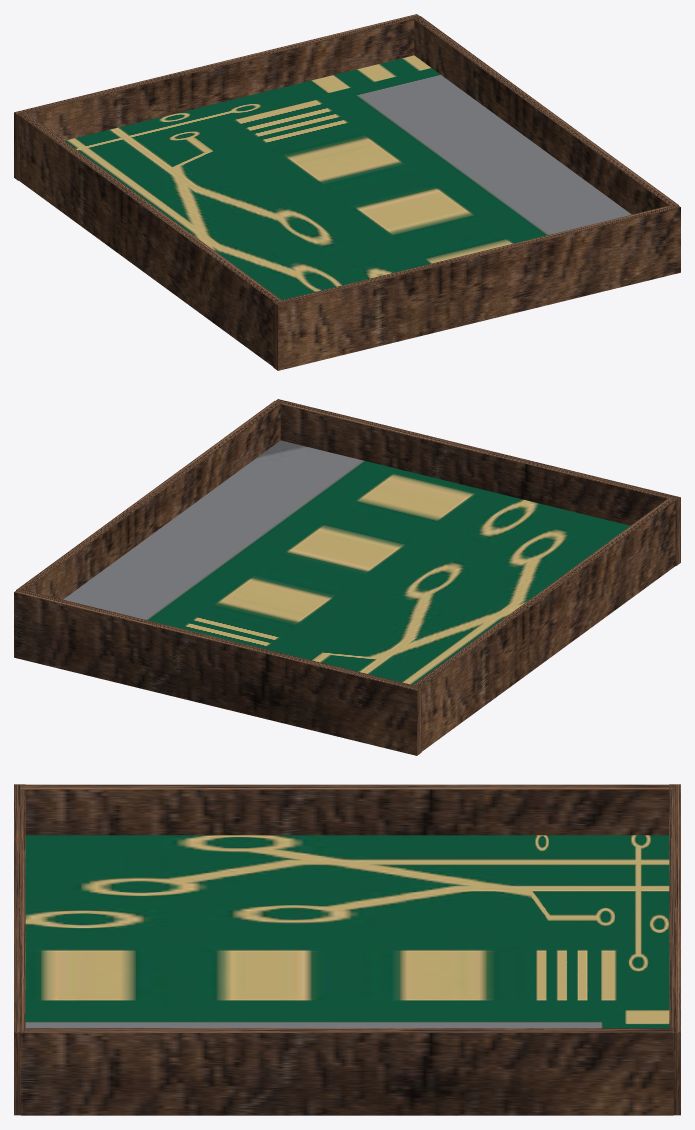
The model's file is bombe_bas.obj.
3 renders of one model, top to bottom at view 1: azimuth 30°, elevation 25°; view 2: azimuth 150°, elevation 25°; view 3: azimuth 270°, elevation 25°, orthographic. The views are drawn at different scales.
Parts seen in each view (by area): view 1: pCube6.000_Mesh.032, pCube4.001_Mesh.024, pCube2.001_Mesh.022, pCube5.001_Mesh.025, pCube3.001_Mesh.023; view 2: pCube6.000_Mesh.032, pCube5.001_Mesh.025, pCube2.001_Mesh.022, pCube4.001_Mesh.024, pCube3.001_Mesh.023; view 3: pCube6.000_Mesh.032, pCube3.001_Mesh.023, pCube2.001_Mesh.022, pCube5.001_Mesh.025, pCube4.001_Mesh.024.
Boxes of the visible parts, box(x1,y1,x2,y2) form: pCube6.000_Mesh.032: box(64, 55, 631, 299); pCube4.001_Mesh.024: box(273, 204, 680, 370); pCube2.001_Mesh.022: box(18, 112, 283, 366); pCube5.001_Mesh.025: box(14, 14, 421, 180); pCube3.001_Mesh.023: box(413, 16, 678, 214); pCube6.000_Mesh.032: box(63, 440, 630, 684); pCube5.001_Mesh.025: box(14, 589, 421, 755); pCube2.001_Mesh.022: box(413, 497, 677, 751); pCube4.001_Mesh.024: box(275, 399, 680, 565); pCube3.001_Mesh.023: box(16, 401, 282, 599); pCube6.000_Mesh.032: box(25, 835, 669, 1028); pCube3.001_Mesh.023: box(20, 1028, 673, 1115); pCube2.001_Mesh.022: box(20, 784, 673, 835); pCube5.001_Mesh.025: box(669, 784, 680, 1115); pCube4.001_Mesh.024: box(14, 784, 25, 1115).
Size of the model in its own units: 0.5452 by 0.0844 by 0.6175.
2 materials, 2 textured.
